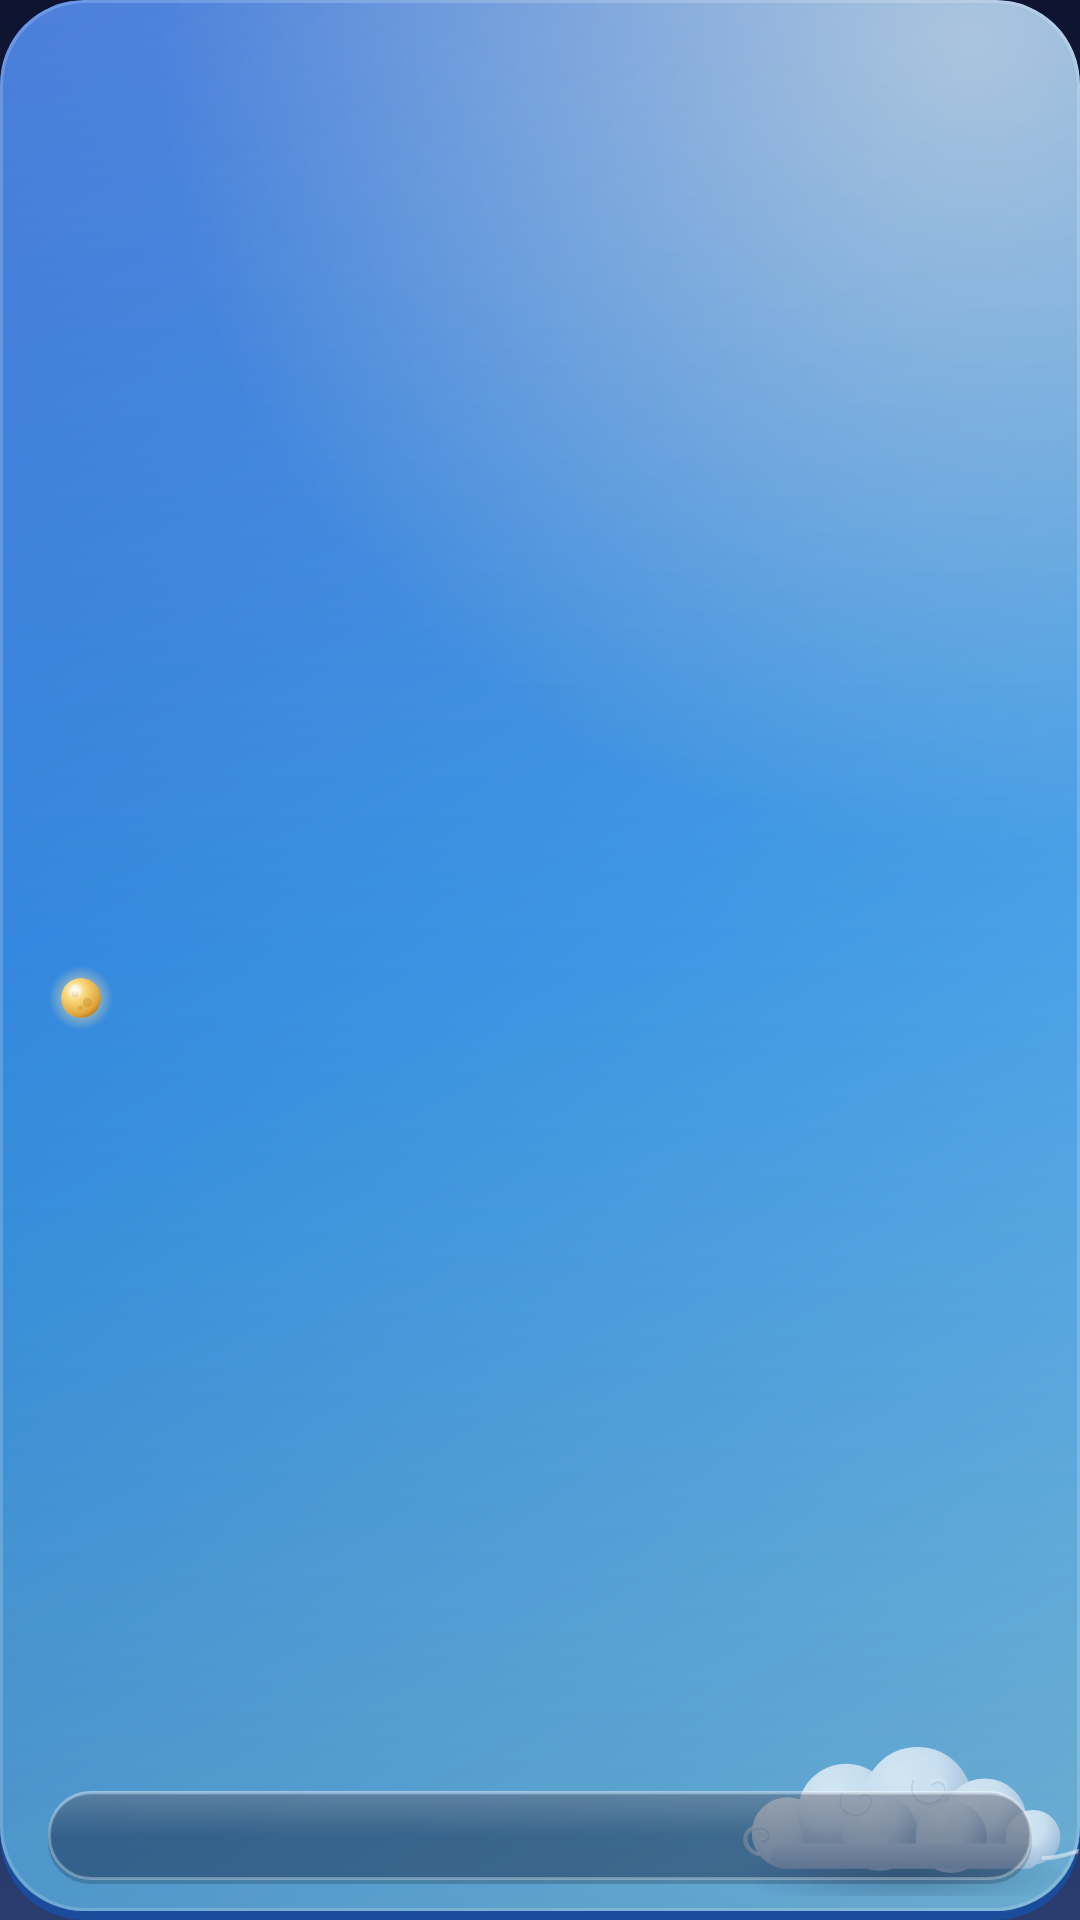

Named icons in this screenshot (1080 x 1920) and their bounding boxes, (x1, y1, x2, y2):
moon: (53, 970, 109, 1026)
